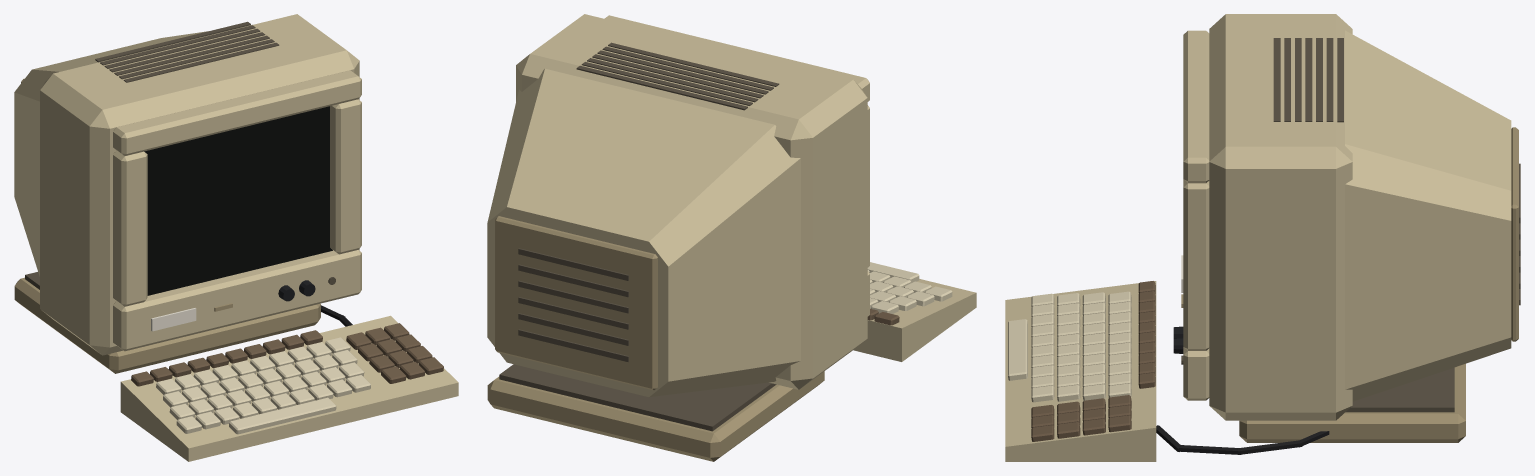
File: terminal.glb
3 views of the same model, side by side, from view 1: azimuth 30°, elevation 25°; view 2: azimuth 150°, elevation 25°; view 3: azimuth 270°, elevation 25° (orthographic). The views are drawn at different scales.
Visible parts, largest first — view 1: terminal; view 2: terminal; view 3: terminal.
Part boxes in pixels (bbox=[...]): terminal: bbox=[14, 14, 458, 461]; terminal: bbox=[487, 14, 976, 461]; terminal: bbox=[1005, 14, 1520, 461].
Size of the model in its own units: 0.46 by 0.4514 by 0.6825.
